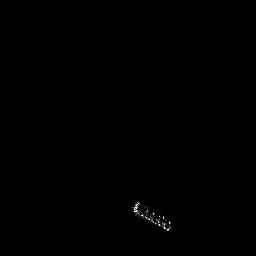ship: (129, 196, 177, 236)
